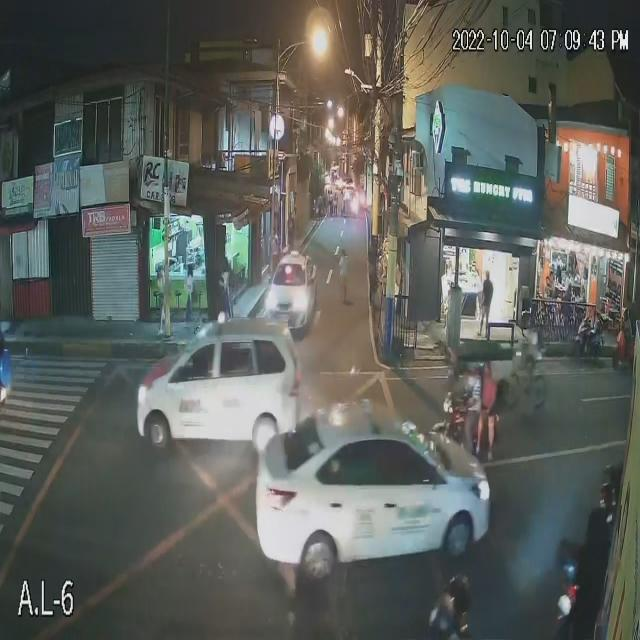helmet: (435, 568, 480, 622), (587, 476, 626, 517)
motorcycle: (538, 528, 621, 632), (569, 313, 610, 365)
rider: (582, 509, 620, 578)
